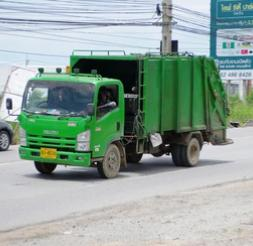vehicle: (7, 50, 233, 179)
